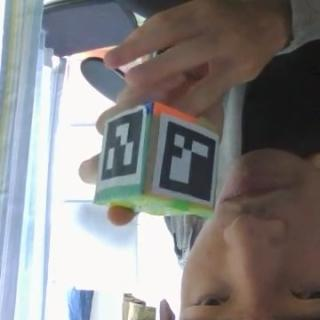armor: (150, 112, 218, 208), (96, 107, 148, 191)
robot: (94, 103, 220, 217)
